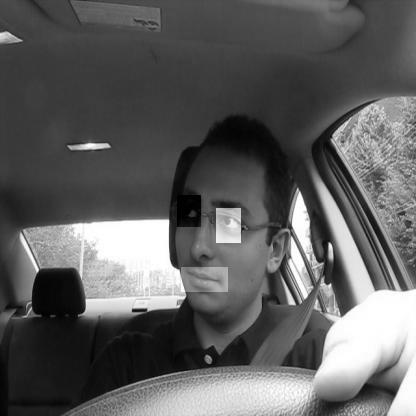seatbelt: (137, 86, 341, 376)
